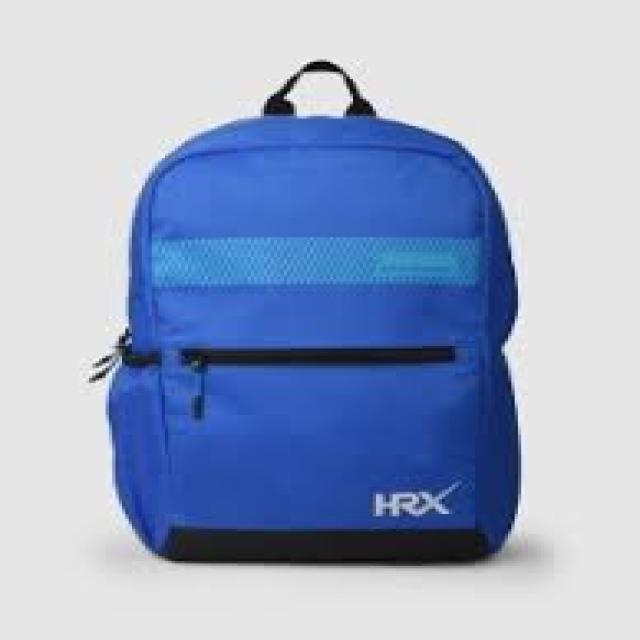backpack: (89, 59, 521, 564)
